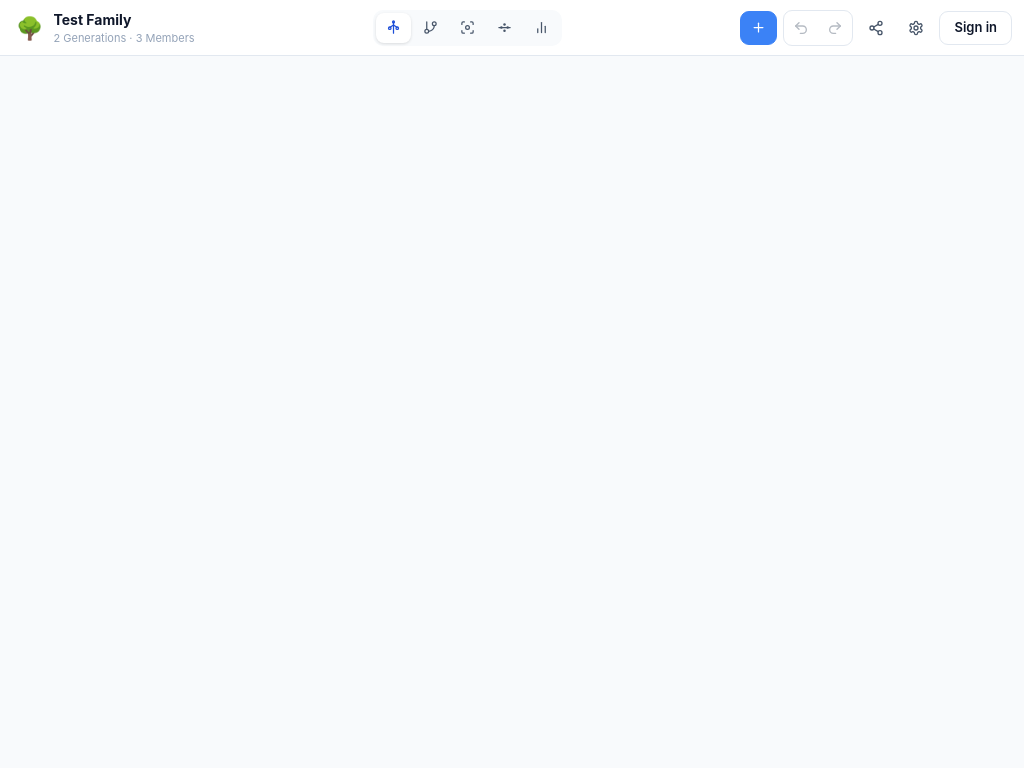
sign-in dialog › shows a translated inline error for wrong credentials and keeps the dialog open
Click the button "Sign in" at (976, 28), box [939,10,1012,44]
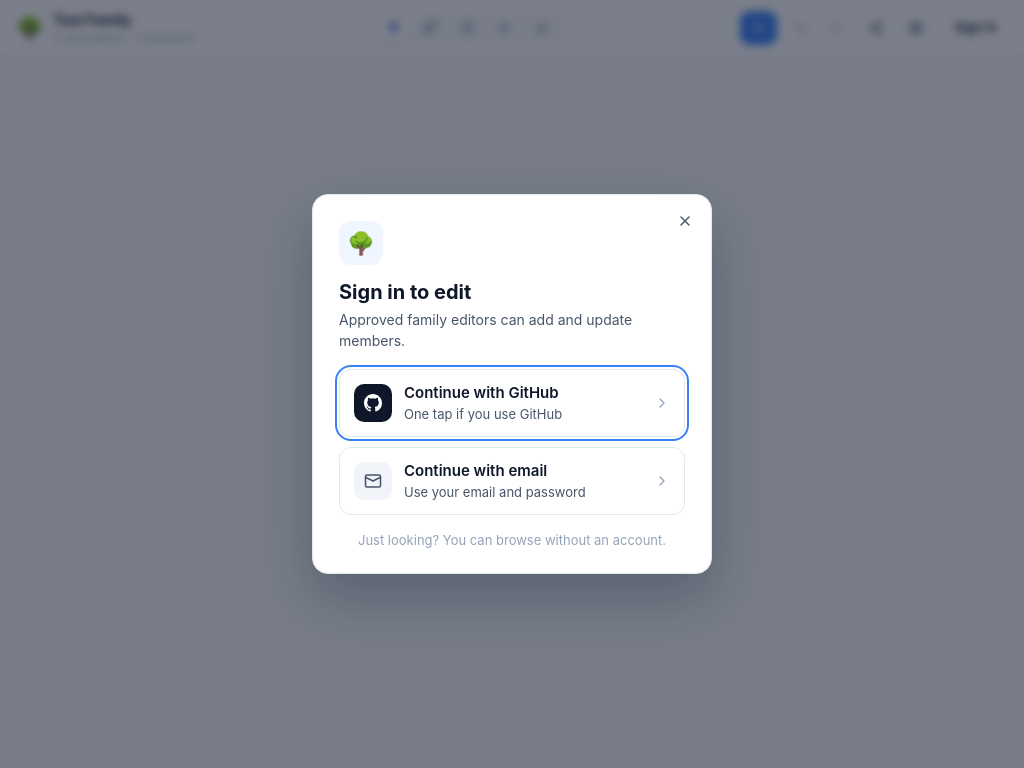
Click the button "Continue with email Use your email and password" at (512, 481), box [339,447,685,515]
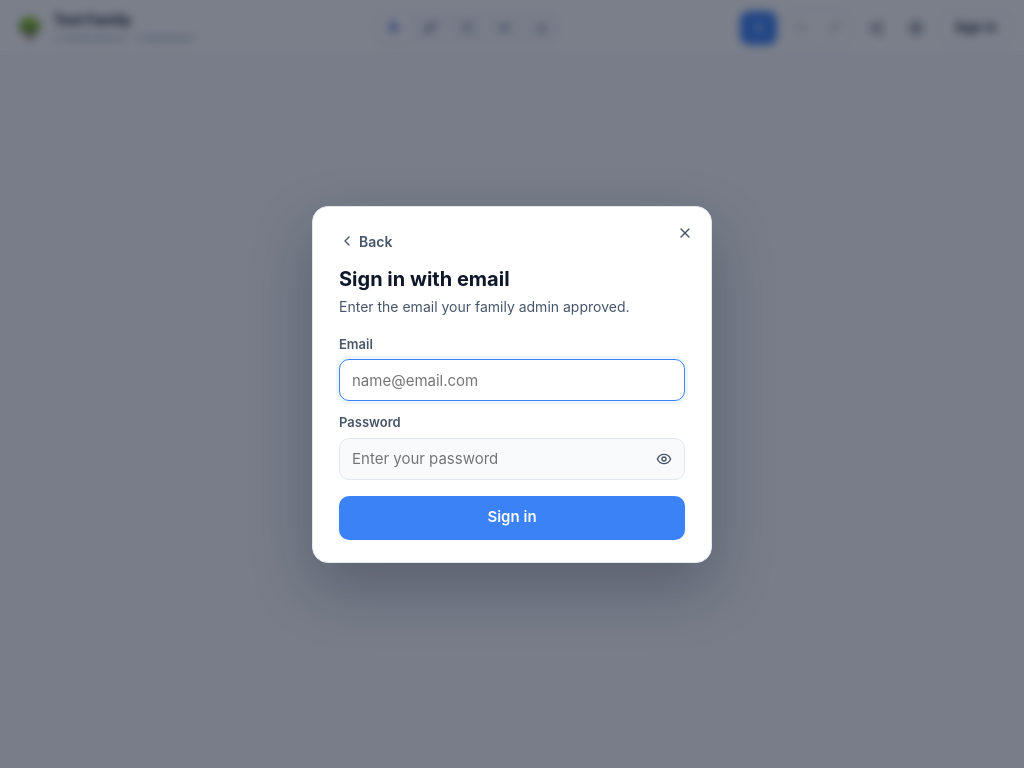
Type " ravi@example.com " into the field labelled "Email" at (512, 380), box [339,359,685,401]
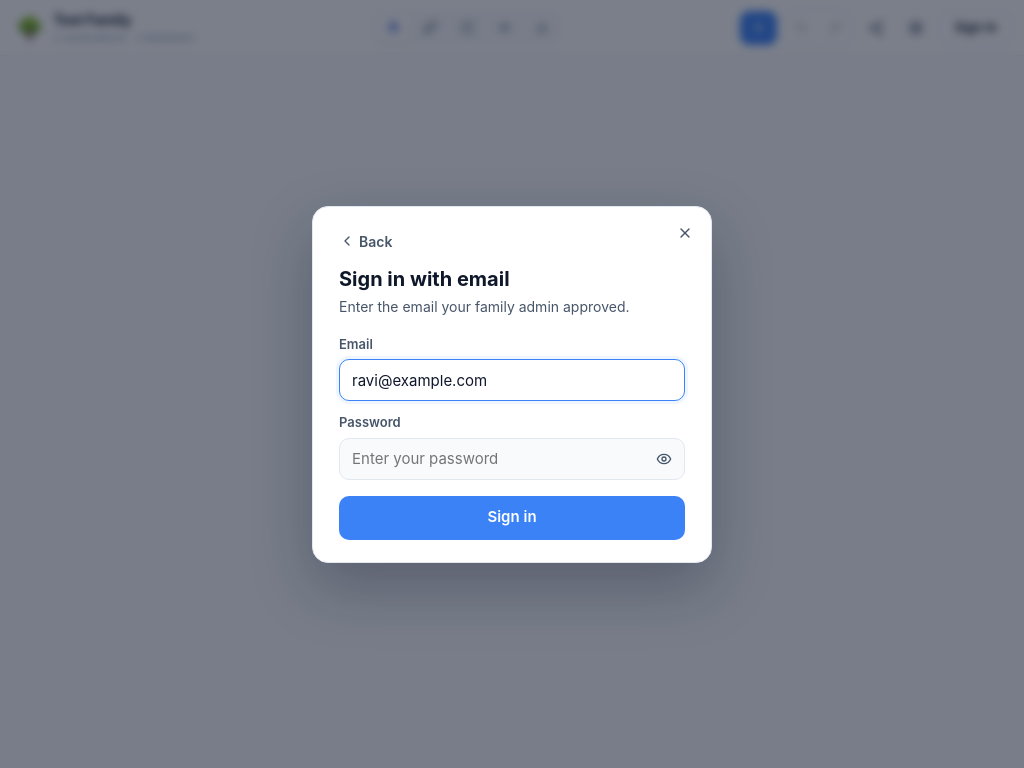
Type "wrong" into the password field labelled "Password" at (512, 458), box [339,438,685,480]
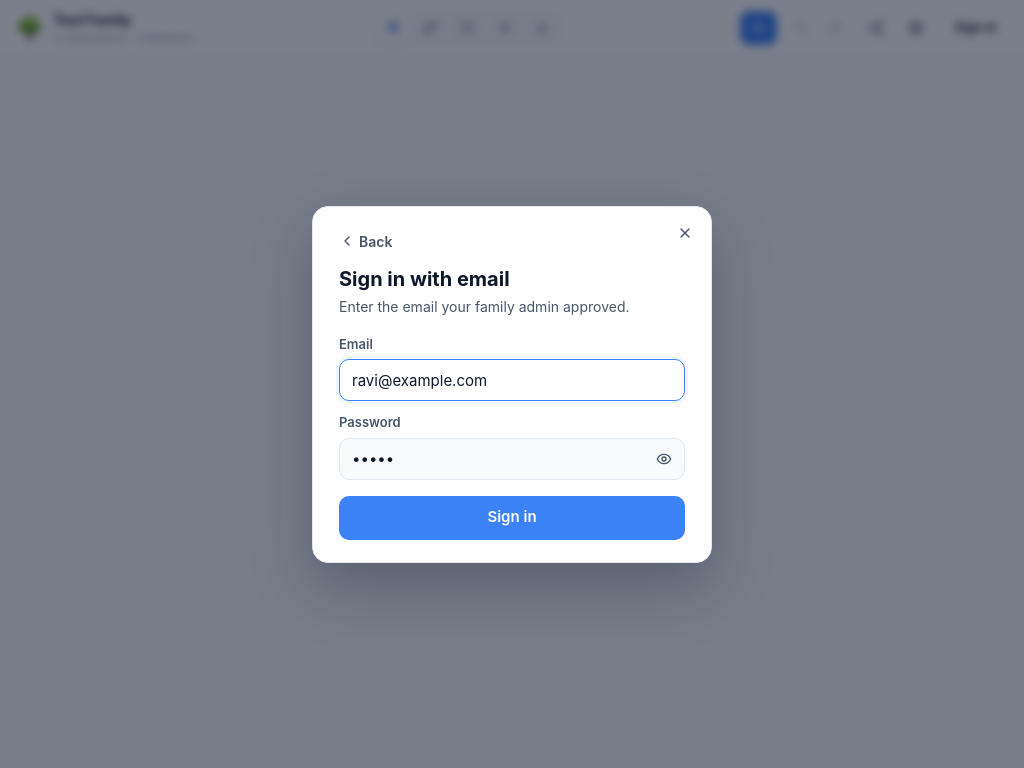
Click the button "Sign in" at (512, 518), box [339,496,685,540]
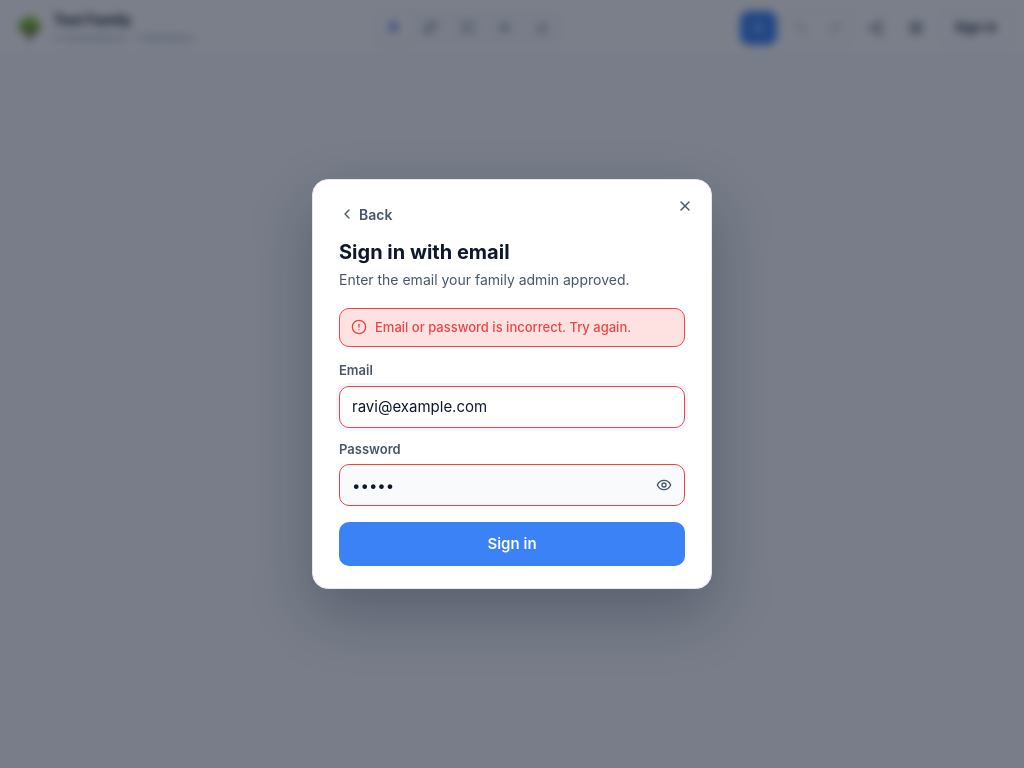
Check: the message reads "Email or password is incorrect. Try again.", box [375,319,631,335]
Type "right" into the password field labelled "Password" at (512, 485), box [339,464,685,506]
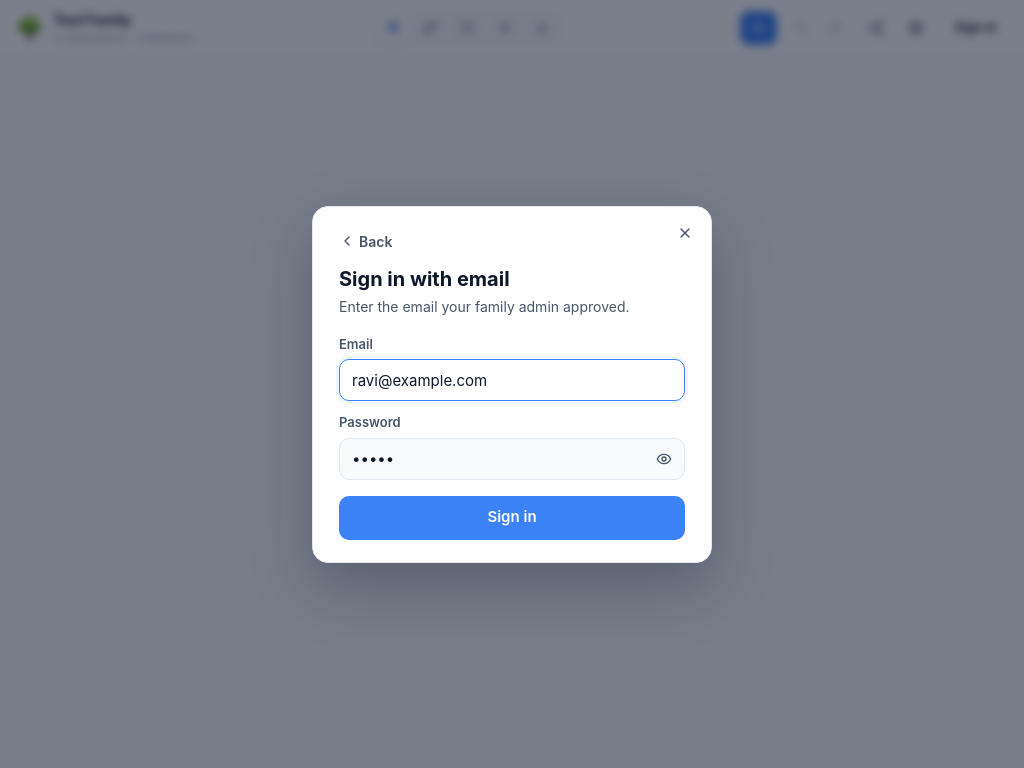
Check: the message "Email or password is incorrect. Try again." is gone
